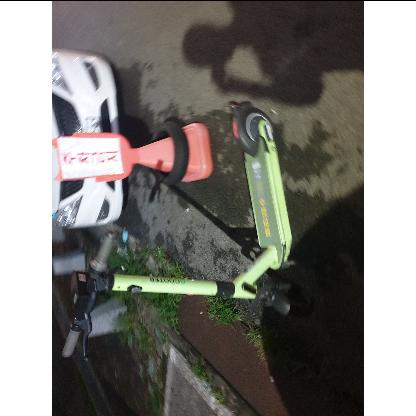bike: (54, 47, 296, 372)
